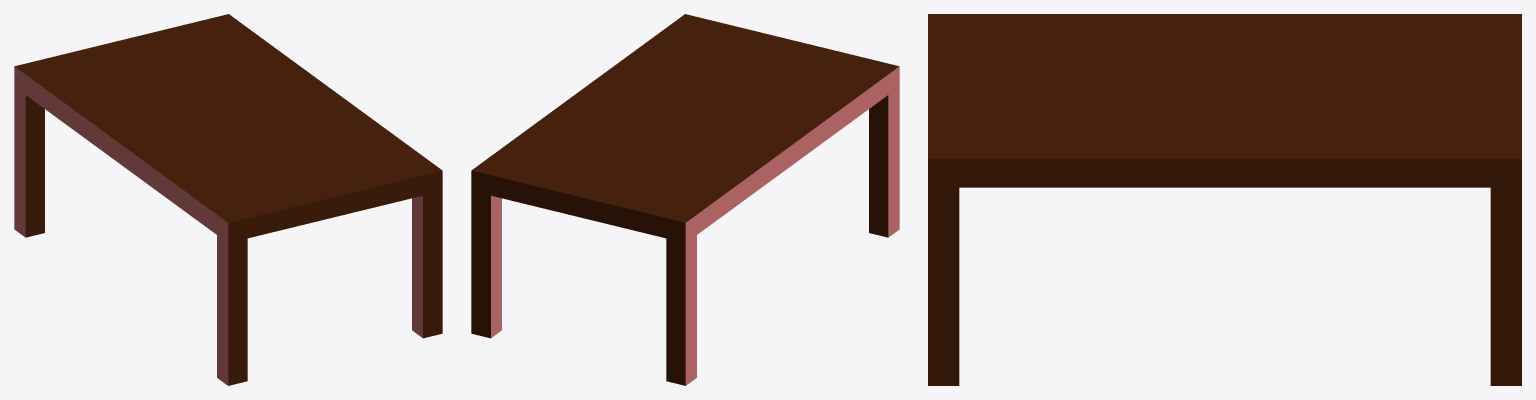
File: table.fbx
3 views of the same model, side by side, from view 1: azimuth 30°, elevation 25°; view 2: azimuth 150°, elevation 25°; view 3: azimuth 270°, elevation 25° (orthographic). The views are drawn at different scales.
Visible parts, largest first — view 1: table; view 2: table; view 3: table.
Boxes of the visible parts, left/top/right/bottom form: table: left=14, top=14, right=442, bottom=385; table: left=471, top=14, right=899, bottom=385; table: left=928, top=14, right=1521, bottom=385.
Bounding box in the file's own units: 68.75 × 50 × 119.
1 material, 1 textured.
